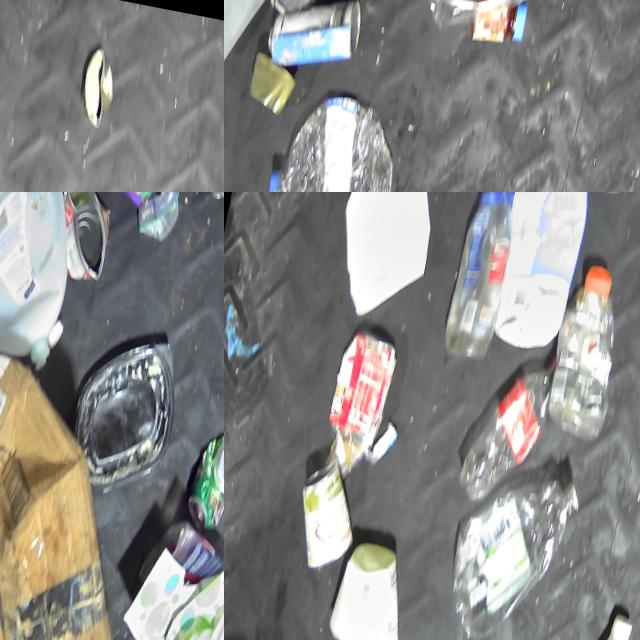can: (263, 0, 366, 80), (327, 327, 397, 436), (181, 432, 224, 540), (76, 46, 122, 132)
milk_jug: (0, 192, 94, 380)
plastic_bottle: (536, 263, 630, 455), (457, 362, 550, 509), (64, 192, 192, 247)
